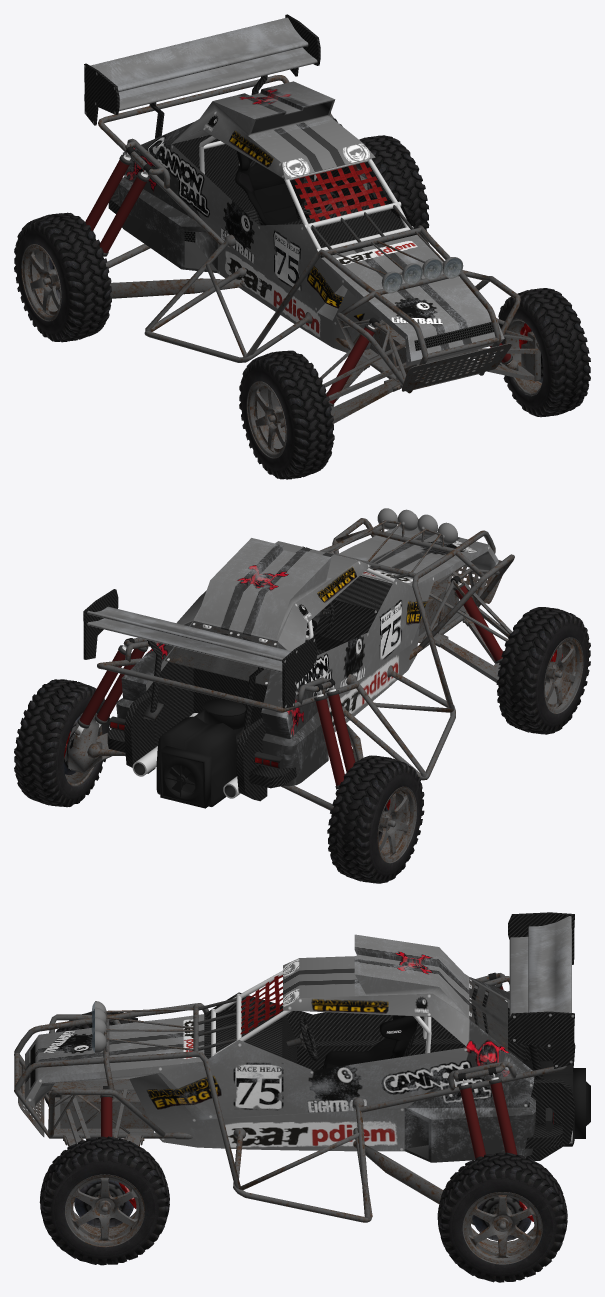
File: thunder_bug.glb
3 views of the same model, one above another, from view 1: azimuth 30°, elevation 25°; view 2: azimuth 150°, elevation 25°; view 3: azimuth 270°, elevation 25° (orthographic). The views are drawn at different scales.
Parts seen in each view (by area): view 1: Body_0_000_Body_0_001_ButaneBody_0_20, Wheels_0_009_Tire_0_40, Frame_0_003_ButaneFrame_0_36, UnderbodyFrame_UnderbodyFrame_0_000_UnderbodyFrame_0_14, Carbon_0_000_Carbon_0_22, Wheels_0_009_Rims_0_38, Board_0_017_Board_0_27, Springs_Springs_0_004_Springs_0_34, Net_Plane_Net_0_8, ChromeDirty_0_000_ChromeDirty_0_12, Lights_VehicleRearLights_0_000_Lights_0_18, Glass_Glass_0_011_HeadlightGlass_0_32 (+3 smaller); view 2: Body_0_000_Body_0_001_ButaneBody_0_20, Wheels_0_009_Tire_0_40, Carbon_0_000_Carbon_0_22, Frame_0_003_ButaneFrame_0_36, Engine_0_001_Engine_0_29, UnderbodyFrame_UnderbodyFrame_0_000_UnderbodyFrame_0_14, Wheels_0_009_Rims_0_38, Springs_Springs_0_004_Springs_0_34, DarkSteel_0_000_DarkSteel_0_10, ChromeDirty_0_000_ChromeDirty_0_12, Lights_VehicleRearLights_0_000_Lights_0_18; view 3: Body_0_000_Body_0_001_ButaneBody_0_20, Wheels_0_009_Tire_0_40, Carbon_0_000_Carbon_0_22, Frame_0_003_ButaneFrame_0_36, Wheels_0_009_Rims_0_38, UnderbodyFrame_UnderbodyFrame_0_000_UnderbodyFrame_0_14, DarkSteel_0_000_DarkSteel_0_10, Springs_Springs_0_004_Springs_0_34, Board_0_017_Board_0_27, Wheels_0_009_Discs_0_39, Engine_0_001_Engine_0_29, ChromeDirty_0_000_ChromeDirty_0_12 (+1 smaller).
Boxes of the visible parts, x1=… form: Body_0_000_Body_0_001_ButaneBody_0_20: x1=90, y1=17, x2=504, y2=366; Wheels_0_009_Tire_0_40: x1=14, y1=135, x2=590, y2=479; Frame_0_003_ButaneFrame_0_36: x1=98, y1=75, x2=520, y2=393; UnderbodyFrame_UnderbodyFrame_0_000_UnderbodyFrame_0_14: x1=105, y1=174, x2=540, y2=423; Carbon_0_000_Carbon_0_22: x1=84, y1=14, x2=416, y2=257; Wheels_0_009_Rims_0_38: x1=21, y1=167, x2=542, y2=458; Board_0_017_Board_0_27: x1=235, y1=151, x2=315, y2=225; Springs_Springs_0_004_Springs_0_34: x1=85, y1=160, x2=510, y2=404; Net_Plane_Net_0_8: x1=294, y1=162, x2=387, y2=221; ChromeDirty_0_000_ChromeDirty_0_12: x1=123, y1=136, x2=511, y2=364; Lights_VehicleRearLights_0_000_Lights_0_18: x1=114, y1=187, x2=462, y2=292; Glass_Glass_0_011_HeadlightGlass_0_32: x1=383, y1=258, x2=462, y2=292; Body_0_000_Body_0_001_ButaneBody_0_20: x1=87, y1=508, x2=498, y2=786; Wheels_0_009_Tire_0_40: x1=14, y1=546, x2=590, y2=883; Carbon_0_000_Carbon_0_22: x1=83, y1=575, x2=392, y2=801; Frame_0_003_ButaneFrame_0_36: x1=97, y1=514, x2=514, y2=780; Engine_0_001_Engine_0_29: x1=156, y1=699, x2=258, y2=808; UnderbodyFrame_UnderbodyFrame_0_000_UnderbodyFrame_0_14: x1=68, y1=560, x2=512, y2=810; Wheels_0_009_Rims_0_38: x1=65, y1=637, x2=583, y2=863; Springs_Springs_0_004_Springs_0_34: x1=79, y1=585, x2=502, y2=785; DarkSteel_0_000_DarkSteel_0_10: x1=77, y1=566, x2=502, y2=789; ChromeDirty_0_000_ChromeDirty_0_12: x1=74, y1=568, x2=461, y2=798; Lights_VehicleRearLights_0_000_Lights_0_18: x1=109, y1=716, x2=283, y2=769; Body_0_000_Body_0_001_ButaneBody_0_20: x1=25, y1=916, x2=571, y2=1162; Wheels_0_009_Tire_0_40: x1=39, y1=1010, x2=567, y2=1282; Carbon_0_000_Carbon_0_22: x1=204, y1=912, x2=575, y2=1160; Frame_0_003_ButaneFrame_0_36: x1=14, y1=973, x2=566, y2=1222; Wheels_0_009_Rims_0_38: x1=65, y1=1174, x2=542, y2=1264; UnderbodyFrame_UnderbodyFrame_0_000_UnderbodyFrame_0_14: x1=18, y1=1063, x2=474, y2=1225; DarkSteel_0_000_DarkSteel_0_10: x1=100, y1=978, x2=549, y2=1098; Springs_Springs_0_004_Springs_0_34: x1=101, y1=985, x2=517, y2=1159; Board_0_017_Board_0_27: x1=322, y1=1015, x2=417, y2=1068; Wheels_0_009_Discs_0_39: x1=74, y1=1180, x2=531, y2=1240; Engine_0_001_Engine_0_29: x1=523, y1=1060, x2=590, y2=1146; ChromeDirty_0_000_ChromeDirty_0_12: x1=211, y1=970, x2=572, y2=1143.
Size of the model in its own units: 288 by 184 by 395.
Materials: 19 (14 with a texture image).
